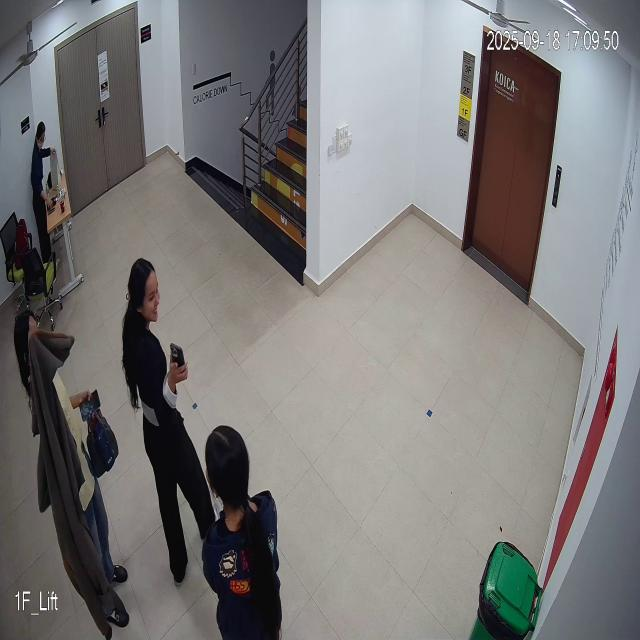face: (134, 251, 166, 326)
